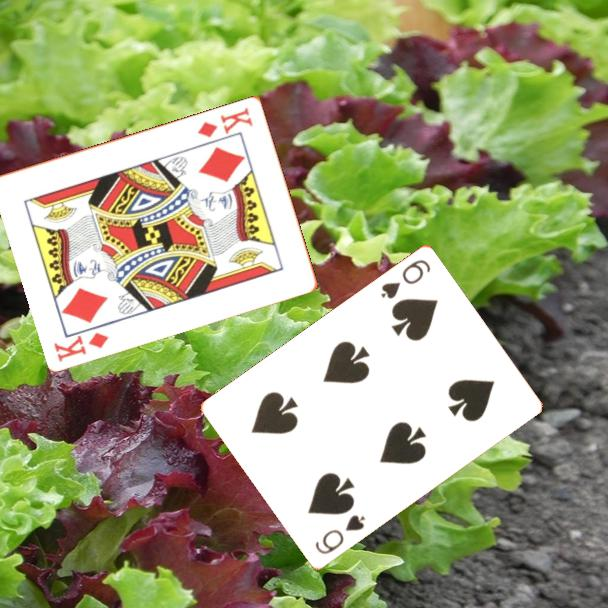d13: (194, 104, 256, 140), (50, 329, 112, 364)
s06: (311, 512, 368, 558), (377, 256, 433, 302)
